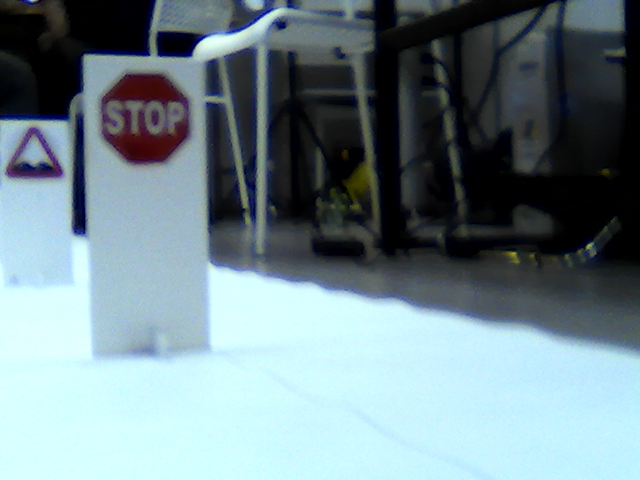Nerov: (5, 126, 67, 180)
Stop: (94, 69, 187, 164)
